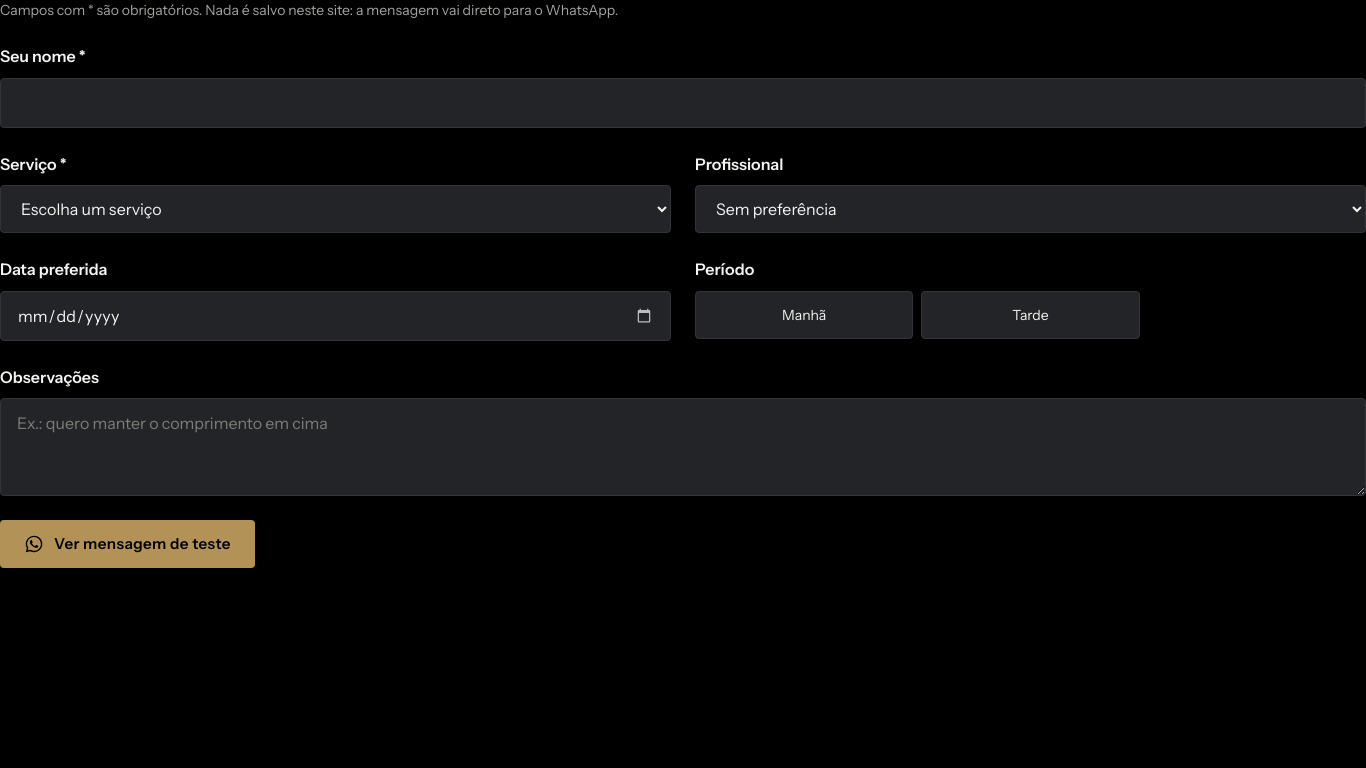
it: BookingForm › no modo demo não abre o WhatsApp e mostra a mensagem na tela
In the field labelled "Seu nome *": [683, 103] box [0,78,1365,128], type "Ana"
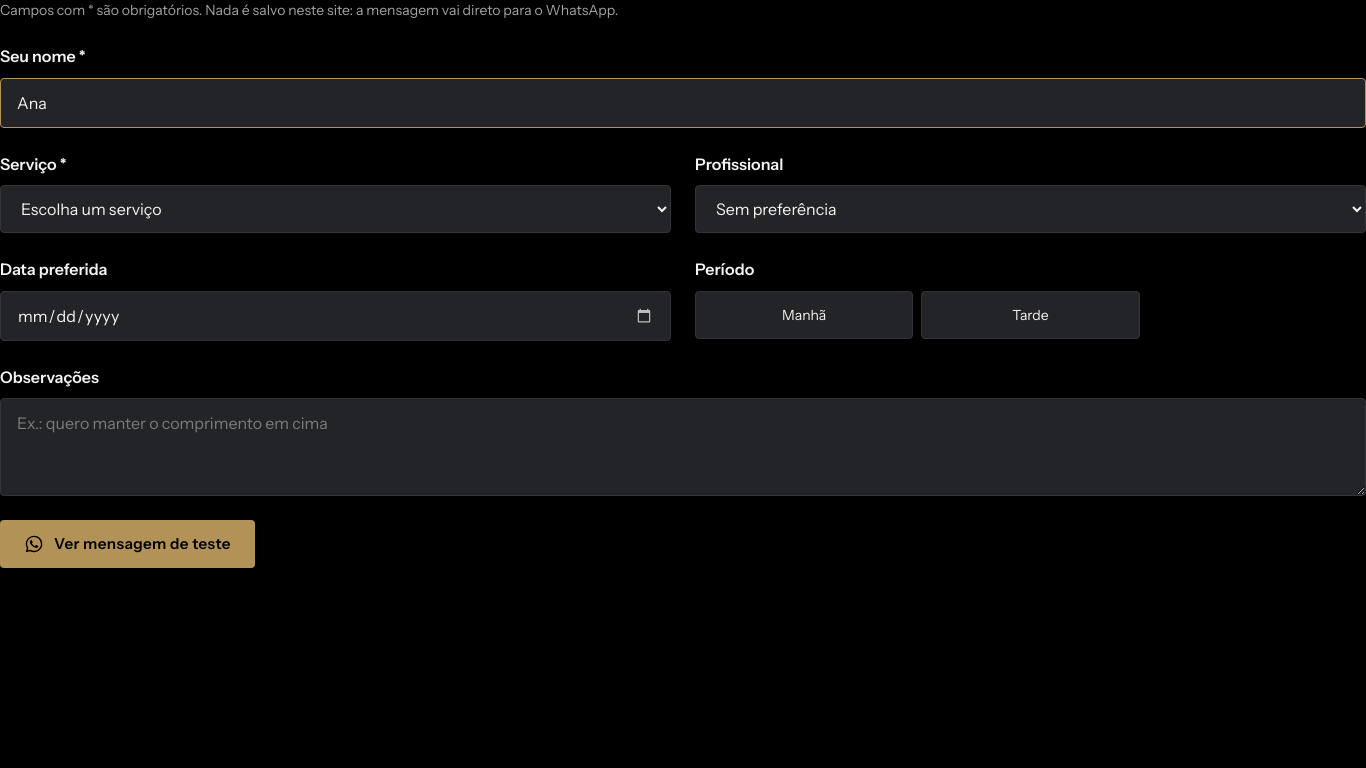
Select "Degradê · R$ 50 · 45 min" in the dropdown labelled "Serviço *": [336, 209] box [0,185,671,233]
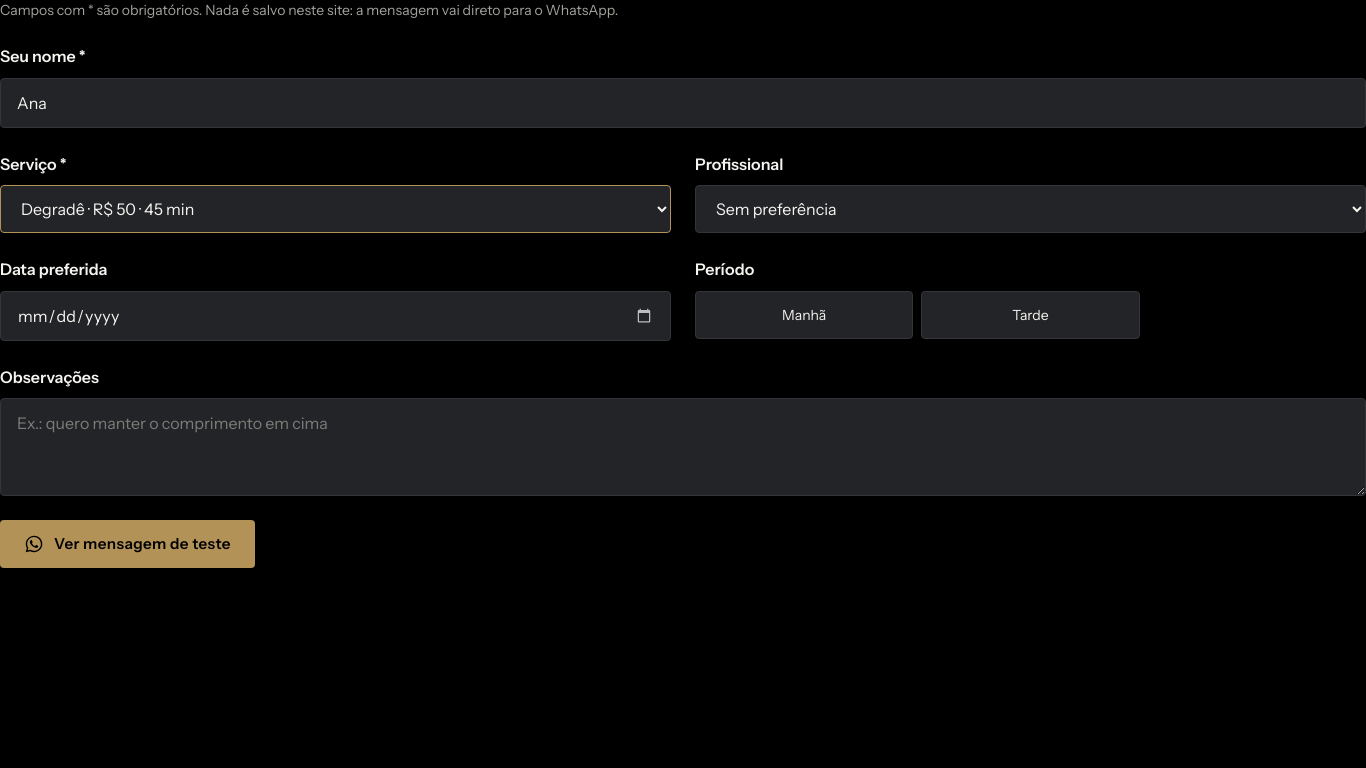
Click the button "Ver mensagem de teste": [127, 544] box [0,520,255,568]
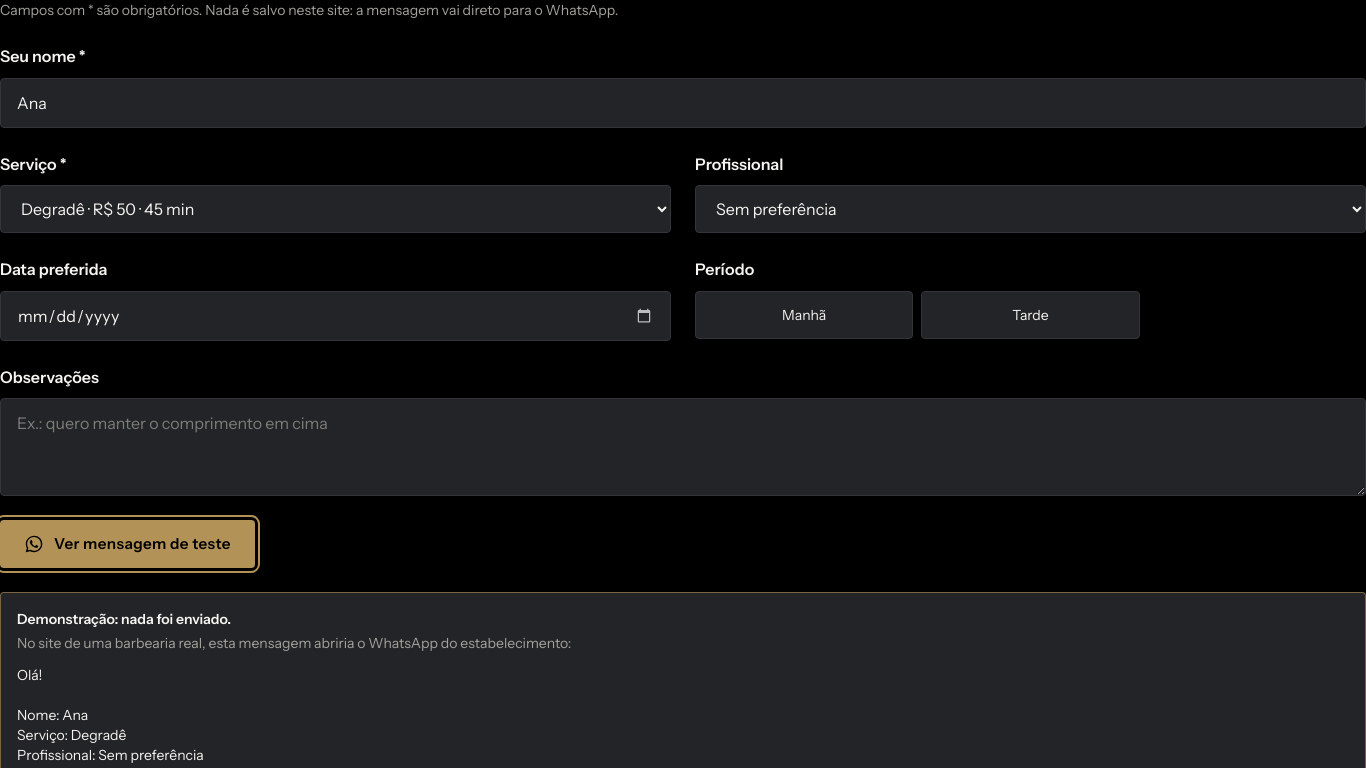
Now the text "Demonstração: nada foi enviado." is shown, box [17,610,231,628]
